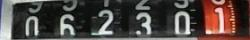digits: (134, 11, 153, 38), (58, 12, 76, 38), (173, 11, 191, 37), (98, 10, 115, 35), (24, 14, 40, 38), (215, 5, 227, 32)
